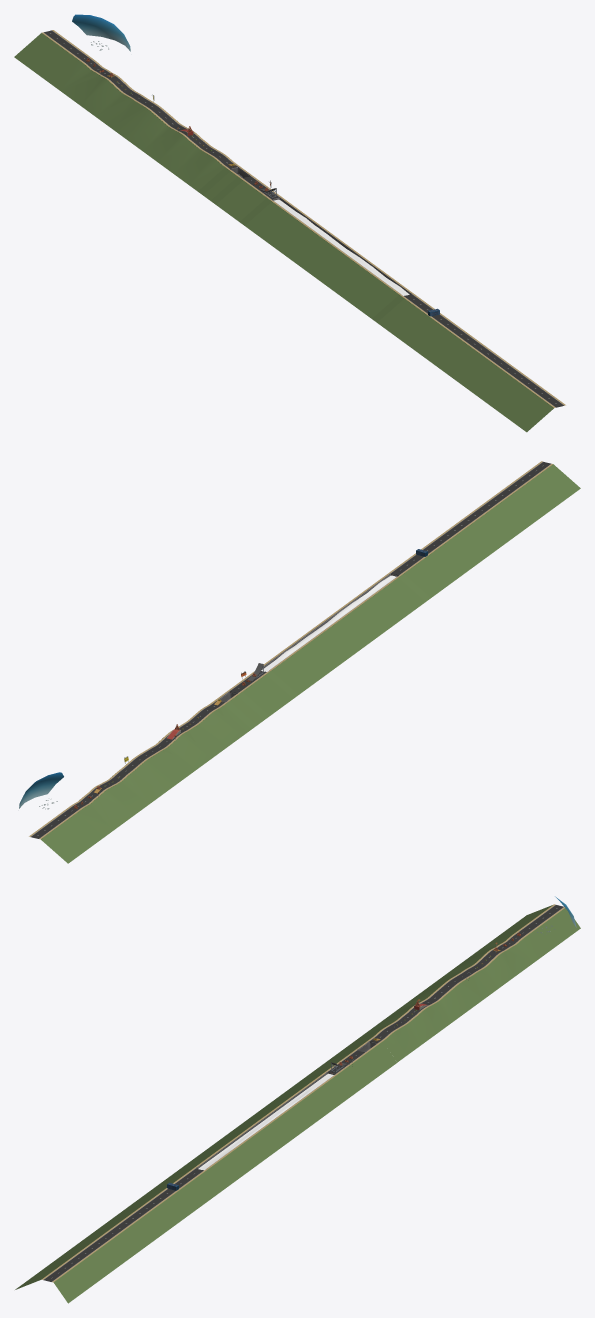
Rendered from level_event_5.glb.
3 views of the same model, one above another, from view 1: azimuth 30°, elevation 25°; view 2: azimuth 150°, elevation 25°; view 3: azimuth 330°, elevation 25° (orthographic).
Parts seen in each view (by area): view 1: road_easy_00 (2), road_easy_02, road_razlom_middle, road_easy_00_small_1 (×2), SkyDome, road_razlom_dno; view 2: road_easy_00 (2), road_easy_02, road_razlom_middle, road_easy_00_small_1 (×2), road_razlom_dno, SkyDome; view 3: road_easy_00 (2), road_easy_02, road_razlom_middle, road_easy_00_small_1 (×2), road_razlom_dno.
Boxes of the visible parts, <box> form: road_easy_00 (2): <box>377,295,565,432</box>; road_easy_02: <box>48,54,236,191</box>; road_razlom_middle: <box>245,198,410,318</box>; road_easy_00_small_1 (×2): <box>14,30,278,221</box>; SkyDome: <box>72,14,130,51</box>; road_razlom_dno: <box>273,199,409,295</box>; road_easy_00 (2): <box>392,461,580,597</box>; road_easy_02: <box>63,702,251,838</box>; road_razlom_middle: <box>261,574,425,694</box>; road_easy_00_small_1 (×2): <box>29,672,293,863</box>; road_razlom_dno: <box>261,575,396,671</box>; SkyDome: <box>19,772,63,808</box>; road_easy_00 (2): <box>15,1170,217,1303</box>; road_easy_02: <box>344,929,546,1062</box>; road_razlom_middle: <box>169,1073,349,1189</box>; road_easy_00_small_1 (×2): <box>302,904,580,1093</box>; road_razlom_dno: <box>198,1073,333,1170</box>.
Bounding box in the file's own units: 58.1 × 37.51 × 667.
Materials: 7 (6 with a texture image).
